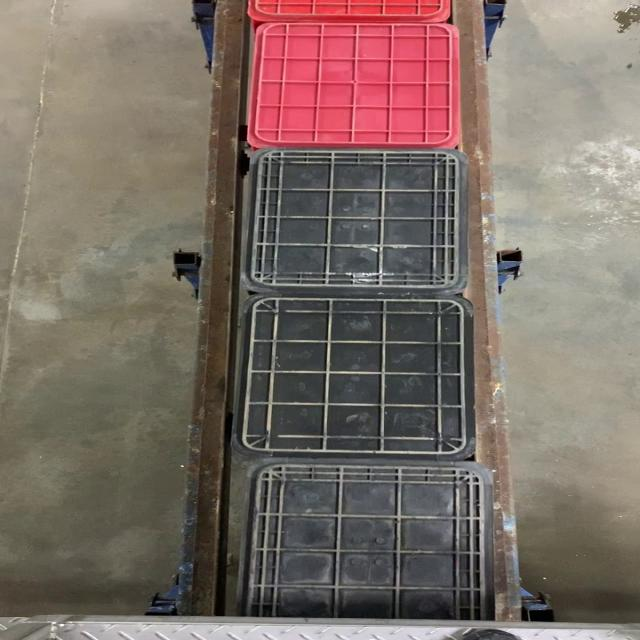Box: (234, 292, 476, 464), (239, 150, 472, 294), (242, 20, 469, 152)
